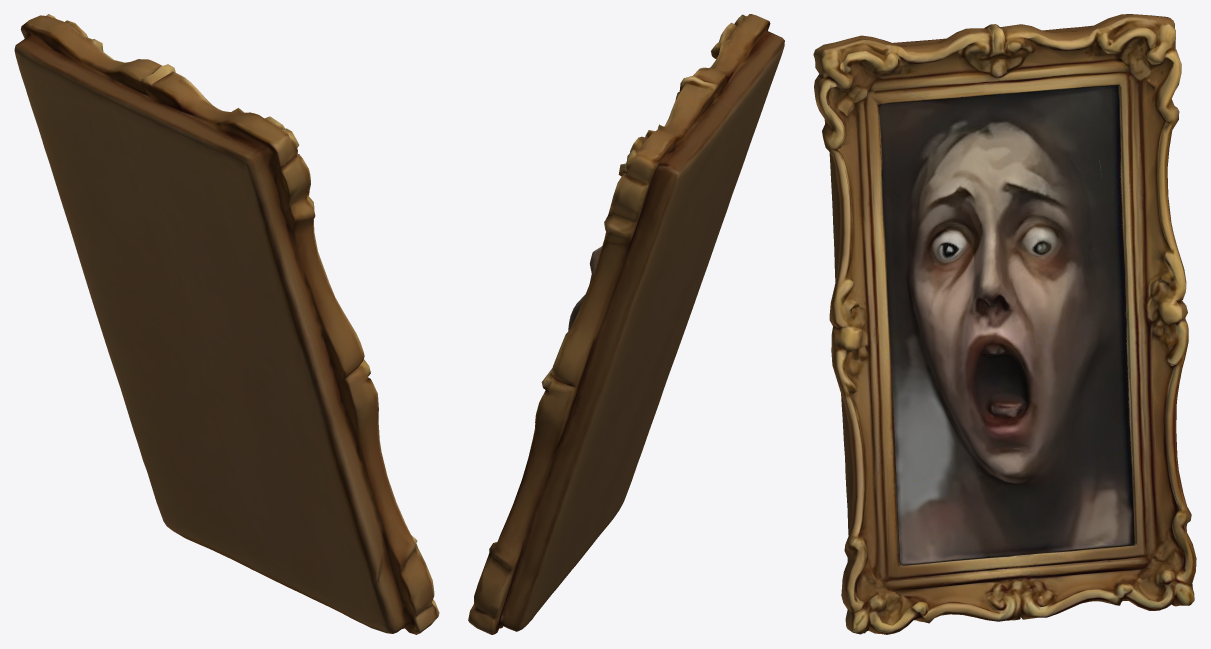
Rendered from gportrait.glb.
3 renders of one model, left to right at view 1: azimuth 30°, elevation 25°; view 2: azimuth 150°, elevation 25°; view 3: azimuth 270°, elevation 25°, orthographic. The views are drawn at different scales.
Visible parts, largest first — view 1: tripo_node_499d9c47-09f7-476b-b083-06b14c85e88a; view 2: tripo_node_499d9c47-09f7-476b-b083-06b14c85e88a; view 3: tripo_node_499d9c47-09f7-476b-b083-06b14c85e88a.
Part boxes in pixels (<box>): tripo_node_499d9c47-09f7-476b-b083-06b14c85e88a: <box>14,14,439,634</box>; tripo_node_499d9c47-09f7-476b-b083-06b14c85e88a: <box>468,14,784,634</box>; tripo_node_499d9c47-09f7-476b-b083-06b14c85e88a: <box>813,14,1196,634</box>.
Size of the model in its own units: 0.4988 by 1 by 0.6597.
1 material, 1 textured.
